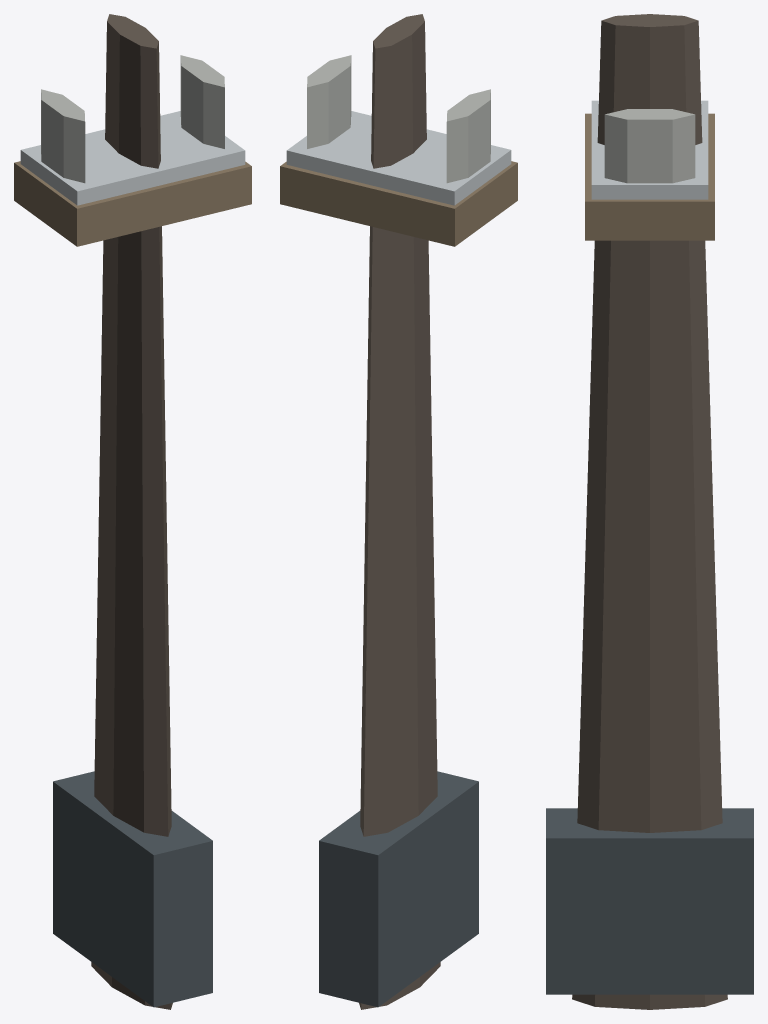
The model's file is power_pole.glb.
The picture shows the model from 3 angles, left to right: view 1: azimuth 30°, elevation 25°; view 2: azimuth 150°, elevation 25°; view 3: azimuth 270°, elevation 25°; orthographic projection. The views are drawn at different scales.
Visible parts, largest first — view 1: power_pole; view 2: power_pole; view 3: power_pole.
Boxes of the visible parts, box(x1,y1,x2,y2) form: power_pole: box(14, 14, 251, 1009); power_pole: box(280, 14, 517, 1009); power_pole: box(546, 14, 753, 1009).
Bounding box in the file's own units: 1 × 5.2 × 1.
